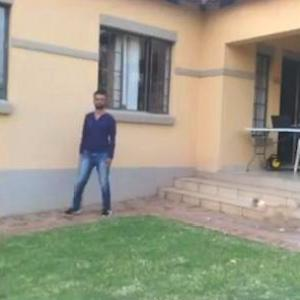follow: (86, 84, 128, 223)
